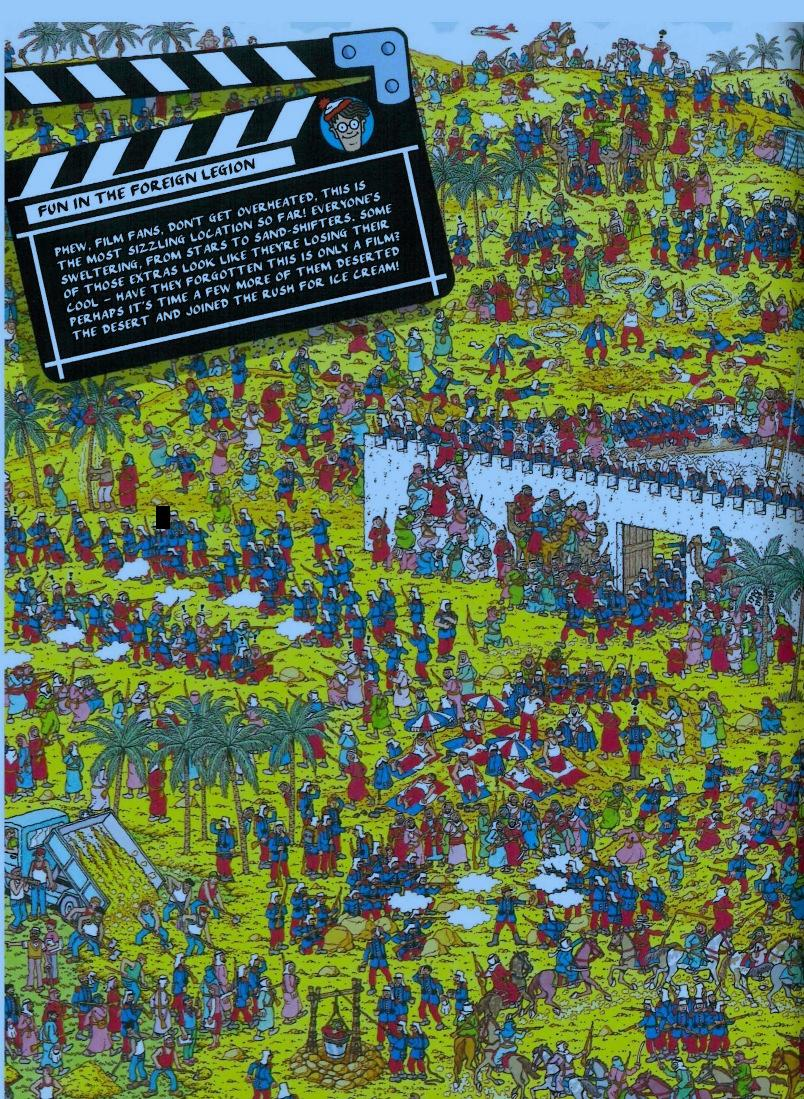waldos: (175, 912, 189, 935)
